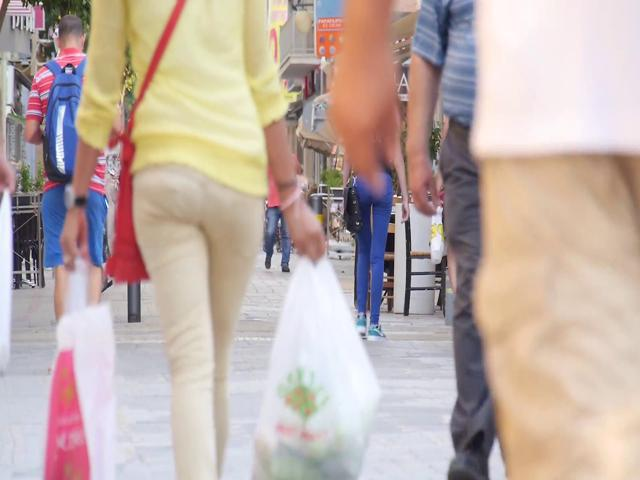shoe: (367, 325, 387, 341), (265, 251, 273, 268), (280, 261, 290, 272)
